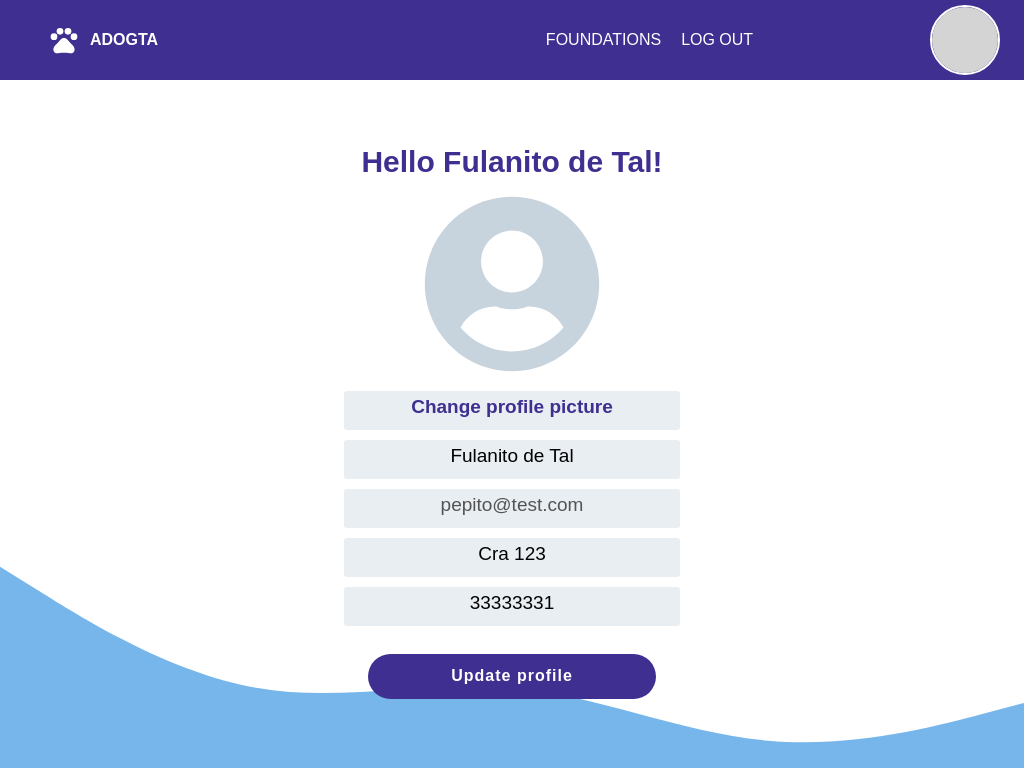
Test: should allow users to update their profile updating only one field
This screenshot has width=1024, height=768.
Expected: the file field "Change profile picture" is shown, [344,391,680,430]
Type "Fulanito de test" into the field with test id "name" at (512, 459), box [344,440,680,479]
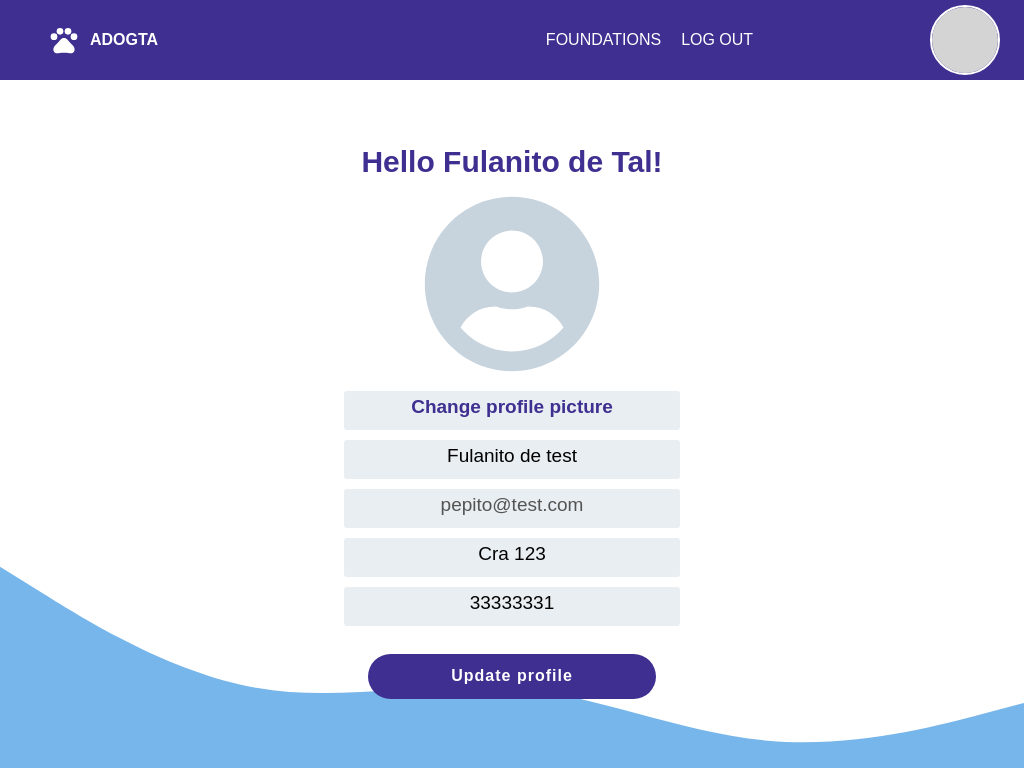
Submit the form with test id "form", box [344,194,680,699]
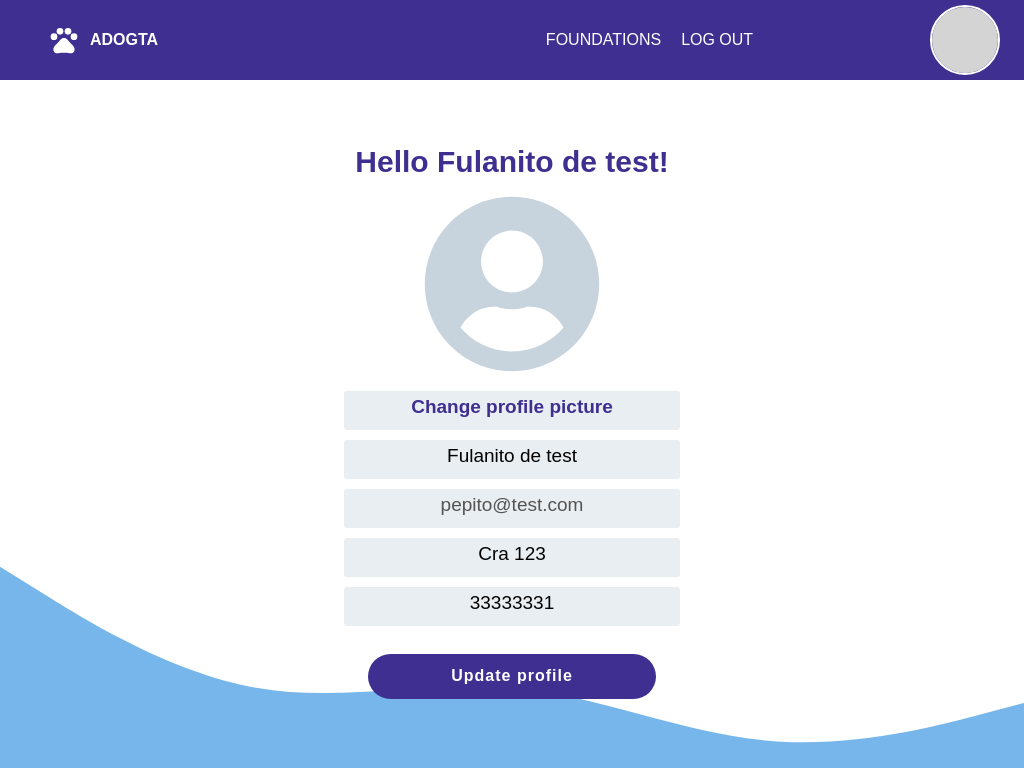
Expected: the heading "Hello Fulanito de test!" is shown, [355,145,669,179]
